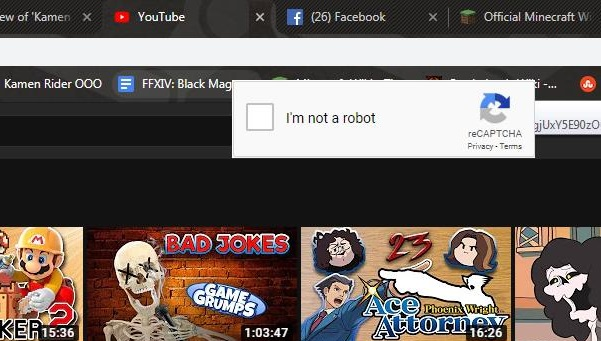captcha: (246, 103, 376, 131)
